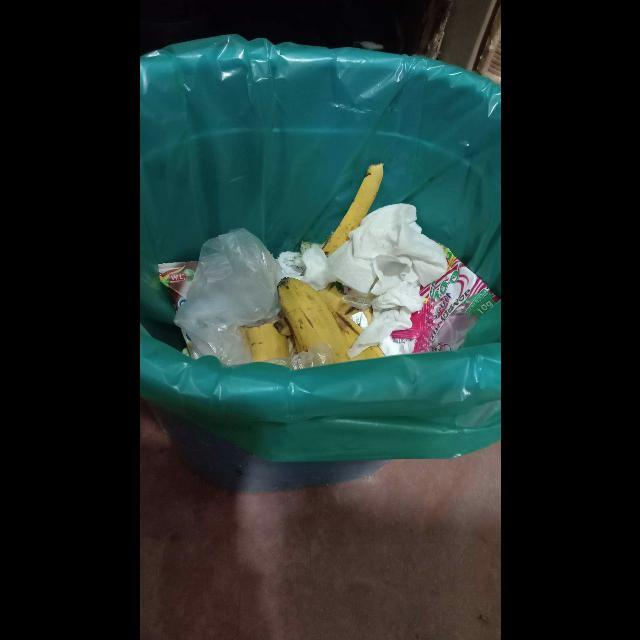food_wrapper: (391, 247, 500, 354)
paper: (278, 204, 447, 360)
plastic_bag: (171, 228, 289, 369)
